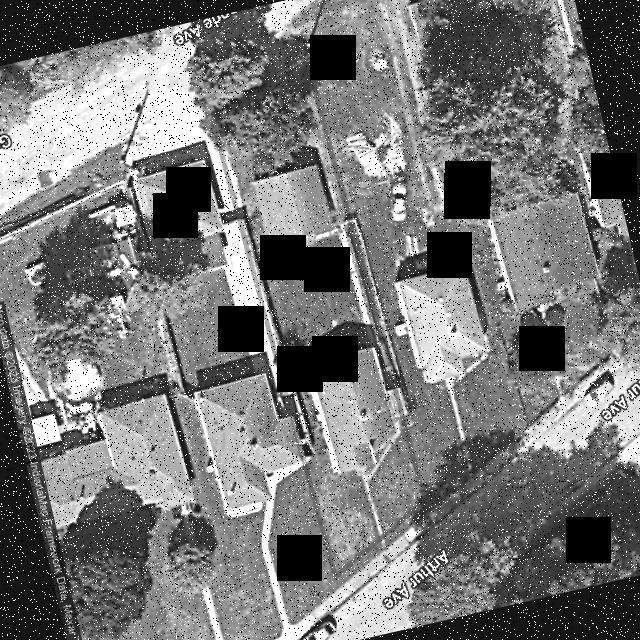Driveway: (355, 422, 400, 536)
Extra Driveway: (379, 539, 387, 551)
Extra Lawn: (333, 541, 382, 590), (384, 501, 429, 548)
House: (305, 347, 395, 472)
Other: (253, 166, 332, 246), (385, 388, 398, 417)
Sidewalk: (241, 217, 312, 464), (305, 223, 391, 392), (214, 121, 245, 219)
